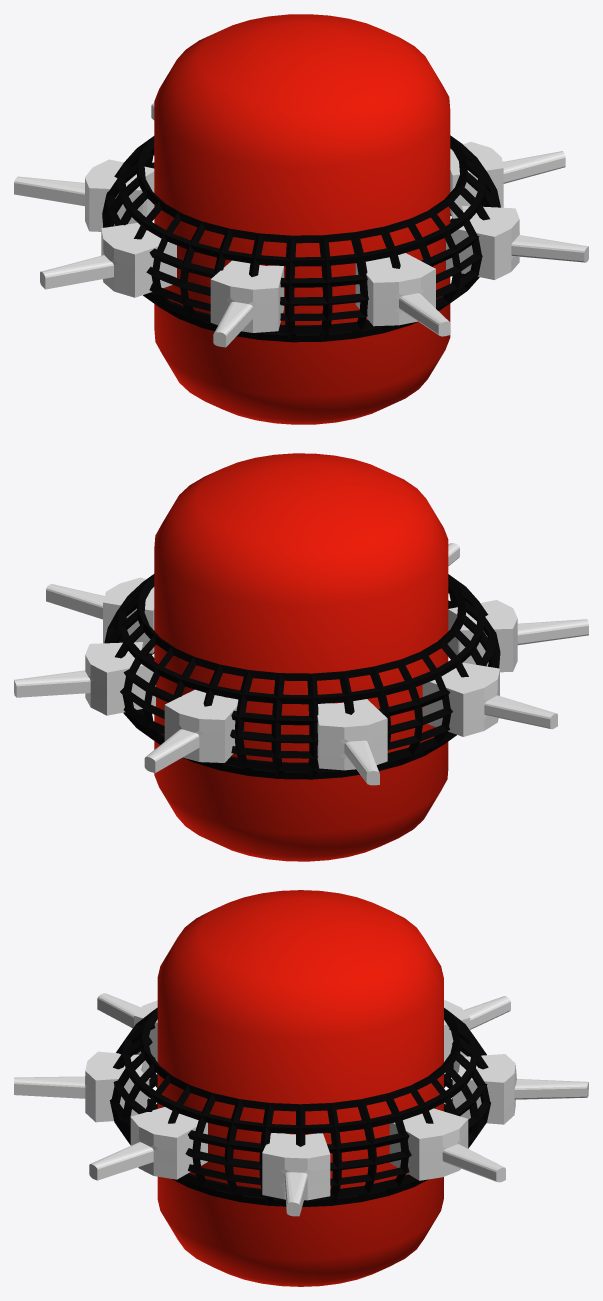
Rendered from mine.fbx.
3 renders of one model, top to bottom at view 1: azimuth 30°, elevation 25°; view 2: azimuth 150°, elevation 25°; view 3: azimuth 270°, elevation 25°, orthographic. The views are drawn at different scales.
Visible parts, largest first — view 1: Cylinder.006, Cube.002, Sphere; view 2: Cylinder.006, Cube.002, Sphere; view 3: Cylinder.006, Cube.002, Sphere.
Boxes of the visible parts, x1=… form: Cylinder.006: x1=154, y1=14, x2=450, y2=424; Cube.002: x1=14, y1=103, x2=588, y2=347; Sphere: x1=102, y1=135, x2=500, y2=342; Cylinder.006: x1=154, y1=453, x2=448, y2=861; Cube.002: x1=14, y1=543, x2=588, y2=785; Sphere: x1=104, y1=574, x2=500, y2=779; Cylinder.006: x1=157, y1=890, x2=443, y2=1286; Cube.002: x1=14, y1=993, x2=588, y2=1216; Sphere: x1=109, y1=1007, x2=490, y2=1207.
Bounding box in the file's own units: 1244 × 825 × 1245.
